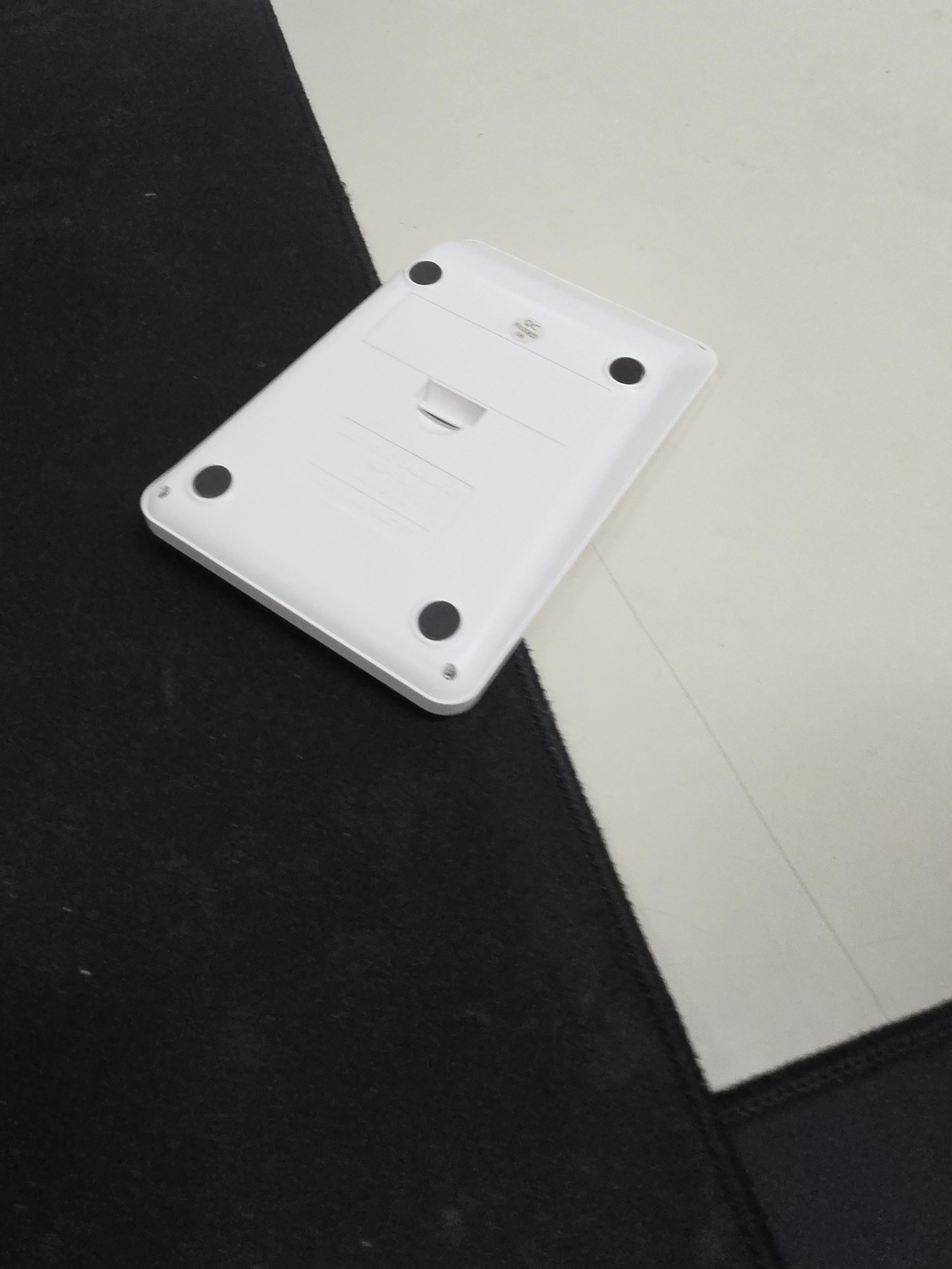calculator: (140, 239, 718, 716)
